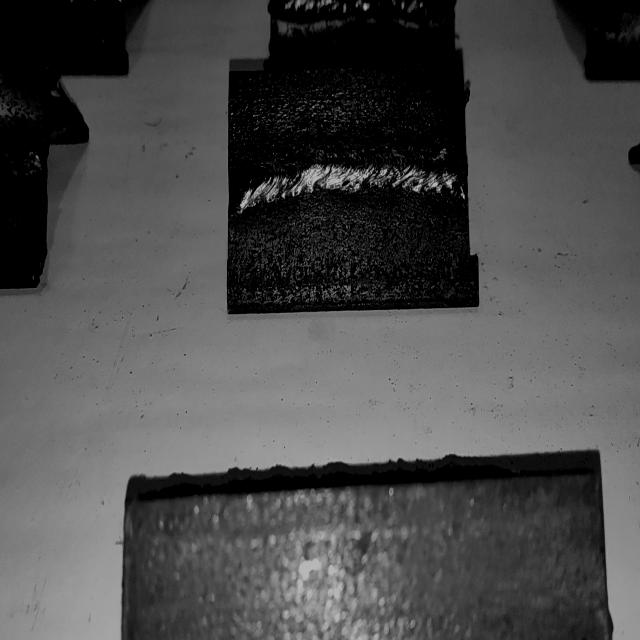Defect: (0, 138, 49, 189)
Good Weld: (231, 144, 464, 210)
